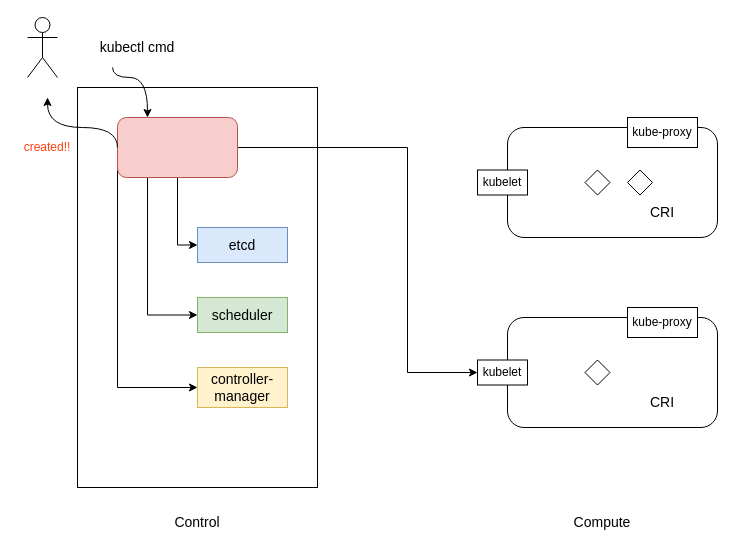
This 735x555 diagram has some shape labels left out. The shapes that lost their labels are listed below. From the top down, each one's centre as x and y in pixels, then its label:
the point at 42,47: Actor
the point at 177,147: kube-api-server
